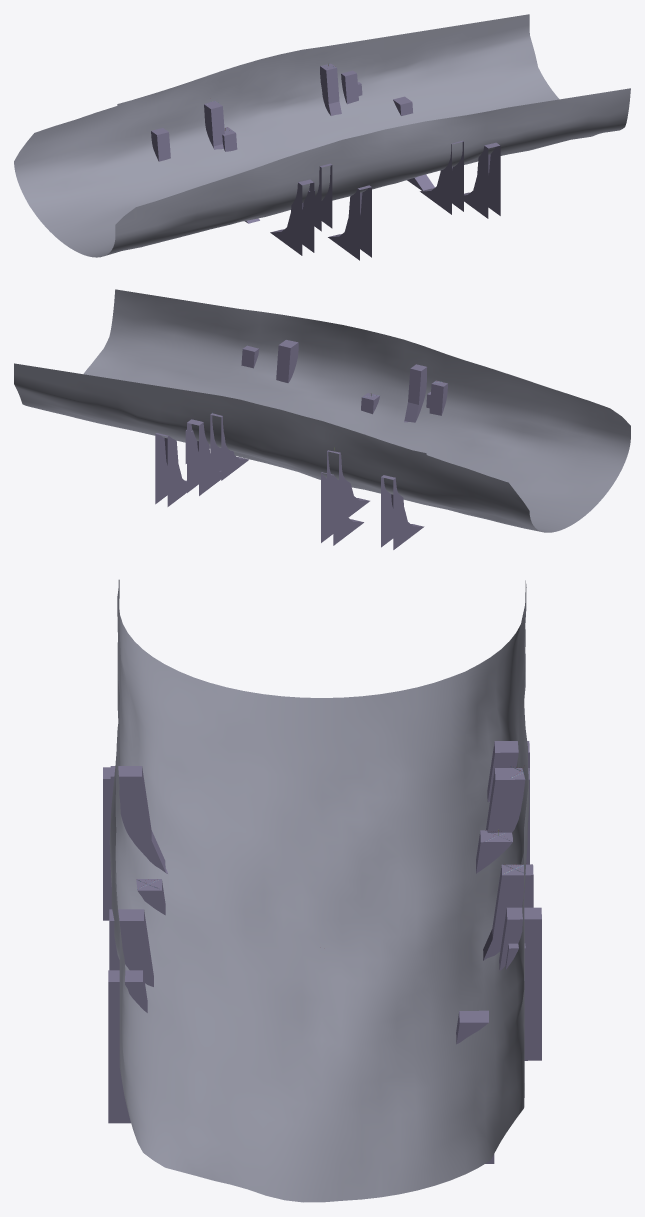
Rendered from half_pipe.glb.
3 views of the same model, one above another, from view 1: azimuth 30°, elevation 25°; view 2: azimuth 150°, elevation 25°; view 3: azimuth 270°, elevation 25° (orthographic). The views are drawn at different scales.
Parts seen in each view (by area): view 1: main, Cube.012; view 2: main, Cube.012; view 3: main, Cube.012.
Boxes of the visible parts, x1,y1,x2,y2 form: main: [14, 14, 630, 257]; Cube.012: [151, 63, 500, 260]; main: [14, 289, 630, 532]; Cube.012: [155, 340, 447, 549]; main: [109, 579, 529, 1202]; Cube.012: [103, 741, 541, 1163].
Size of the model in its own units: 587 by 145 by 216.
